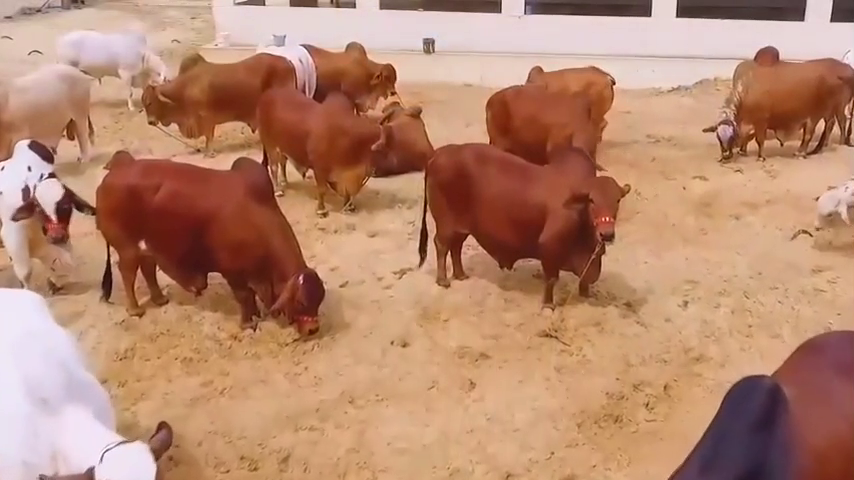bo: (86, 129, 334, 353), (407, 139, 632, 318), (1, 277, 195, 480), (654, 308, 852, 480), (249, 83, 389, 229), (713, 38, 854, 172), (143, 47, 301, 159), (1, 142, 104, 302), (474, 77, 609, 175), (4, 59, 105, 176), (55, 27, 182, 117), (513, 42, 624, 143), (364, 97, 436, 187), (307, 34, 391, 105), (263, 29, 327, 96), (797, 167, 854, 237)
